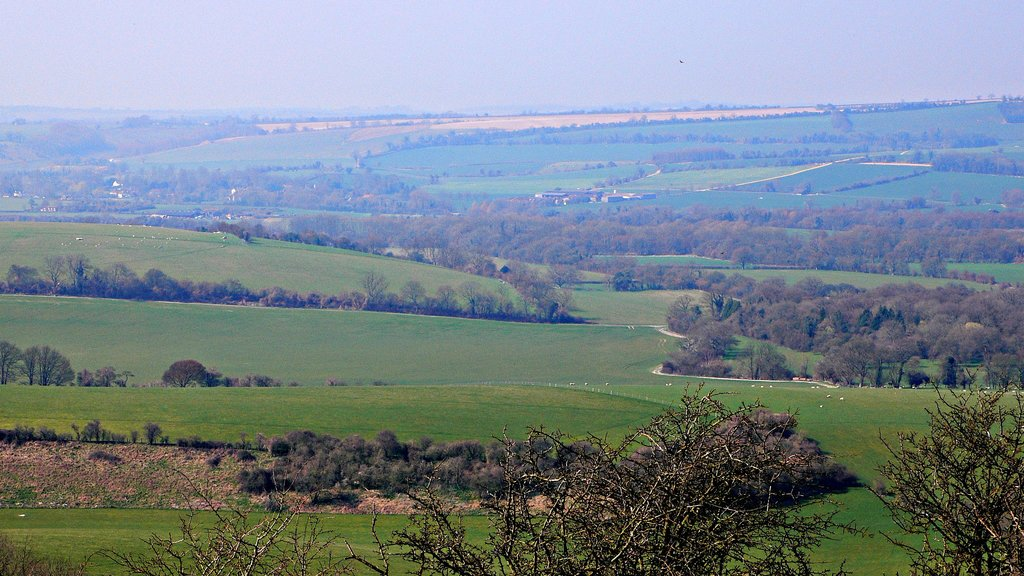Tree: (0, 160, 1023, 575)
